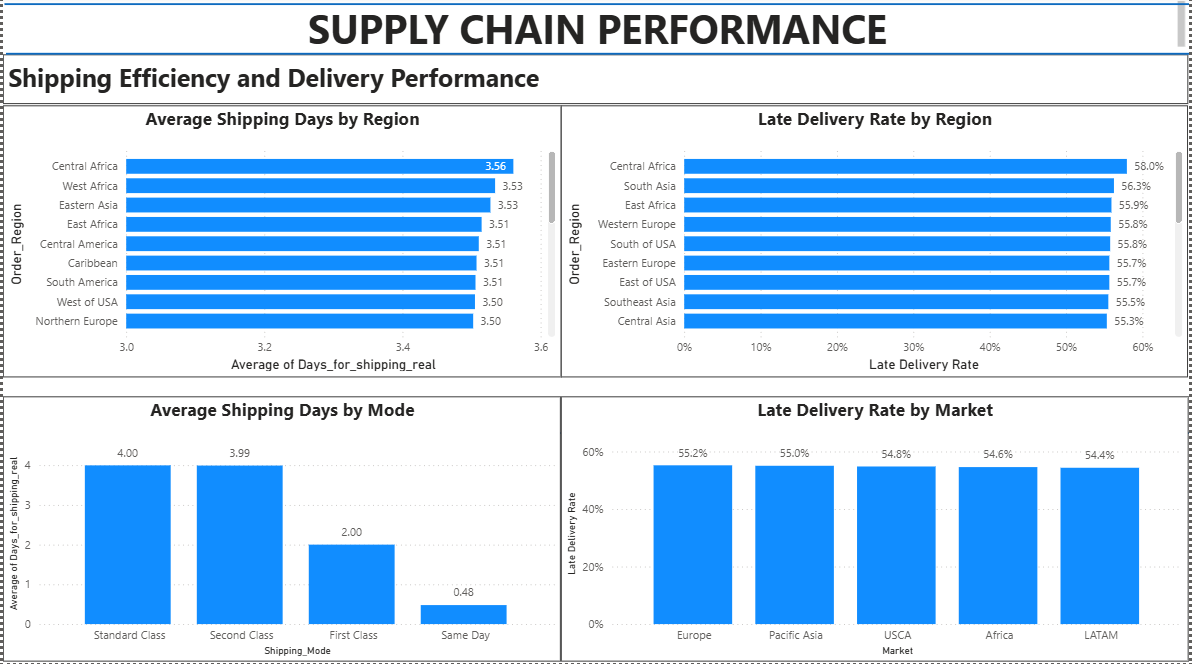

What the dashboard file says about the page in this screenshot:
{"tool":"powerbi","page":{"name":"Page 3","canvas":[1280,720],"ordinal":2},"visuals":[{"type":"textbox","box":[11.3,0,1269.5,63.1],"z":0},{"type":"shape","box":[1.6,0,1278.9,17.5],"z":1000},{"type":"shape","box":[0,411.3,1280.7,121.1],"z":2000},{"type":"clusteredBarChart","title":"Average Shipping Days by Region","fields":{"Category":["DataCo_cleaned.Order_Region"],"Y":["Avg(DataCo_cleaned.Days_for_shipping_real)"]},"box":[0,118.2,602.4,293.1],"z":3000},{"type":"clusteredBarChart","title":"Late Delivery Rate by Region","fields":{"Category":["DataCo_cleaned.Order_Region"],"Y":["DataCo_cleaned.Late Delivery Rate"]},"box":[602.4,118.2,676.8,293.1],"z":4000},{"type":"clusteredColumnChart","title":"Average Shipping Days by Mode","fields":{"Category":["DataCo_cleaned.Shipping_Mode"],"Y":["Avg(DataCo_cleaned.Days_for_shipping_real)"]},"box":[0,432.3,602,286],"z":5000},{"type":"clusteredColumnChart","fields":{"Category":["DataCo_cleaned.Market"],"Y":["DataCo_cleaned.Late Delivery Rate"]},"box":[602.4,432.3,677,286],"z":6000},{"type":"textbox","box":[0,63.1,1279.2,53.4],"z":7000},{"type":"shape","box":[3.2,53.4,1277.6,17.8],"z":8000}]}

Visuals, with their boxes in screenshot pixels (x1, y1, x2, y2), scaled from the page's 1280x720 canvas onto the 1192x664 screenshot:
textbox: 11:0:1191:58
shape: 1:0:1191:16
shape: 0:379:1191:491
"Average Shipping Days by Region" clusteredBarChart: 0:109:561:379
"Late Delivery Rate by Region" clusteredBarChart: 561:109:1191:379
"Average Shipping Days by Mode" clusteredColumnChart: 0:399:561:662
clusteredColumnChart - DataCo_cleaned.Market x DataCo_cleaned.Late Delivery Rate: 561:399:1191:662
textbox: 0:58:1191:107
shape: 3:49:1191:66
